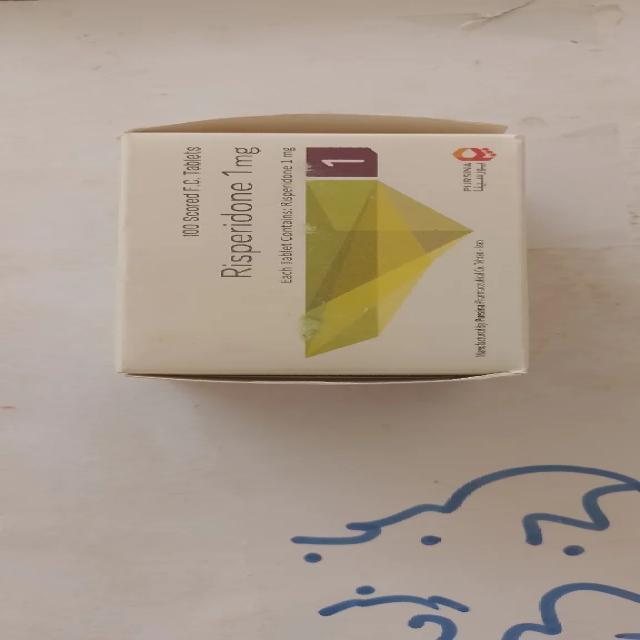drug-name: (211, 179, 263, 279)
